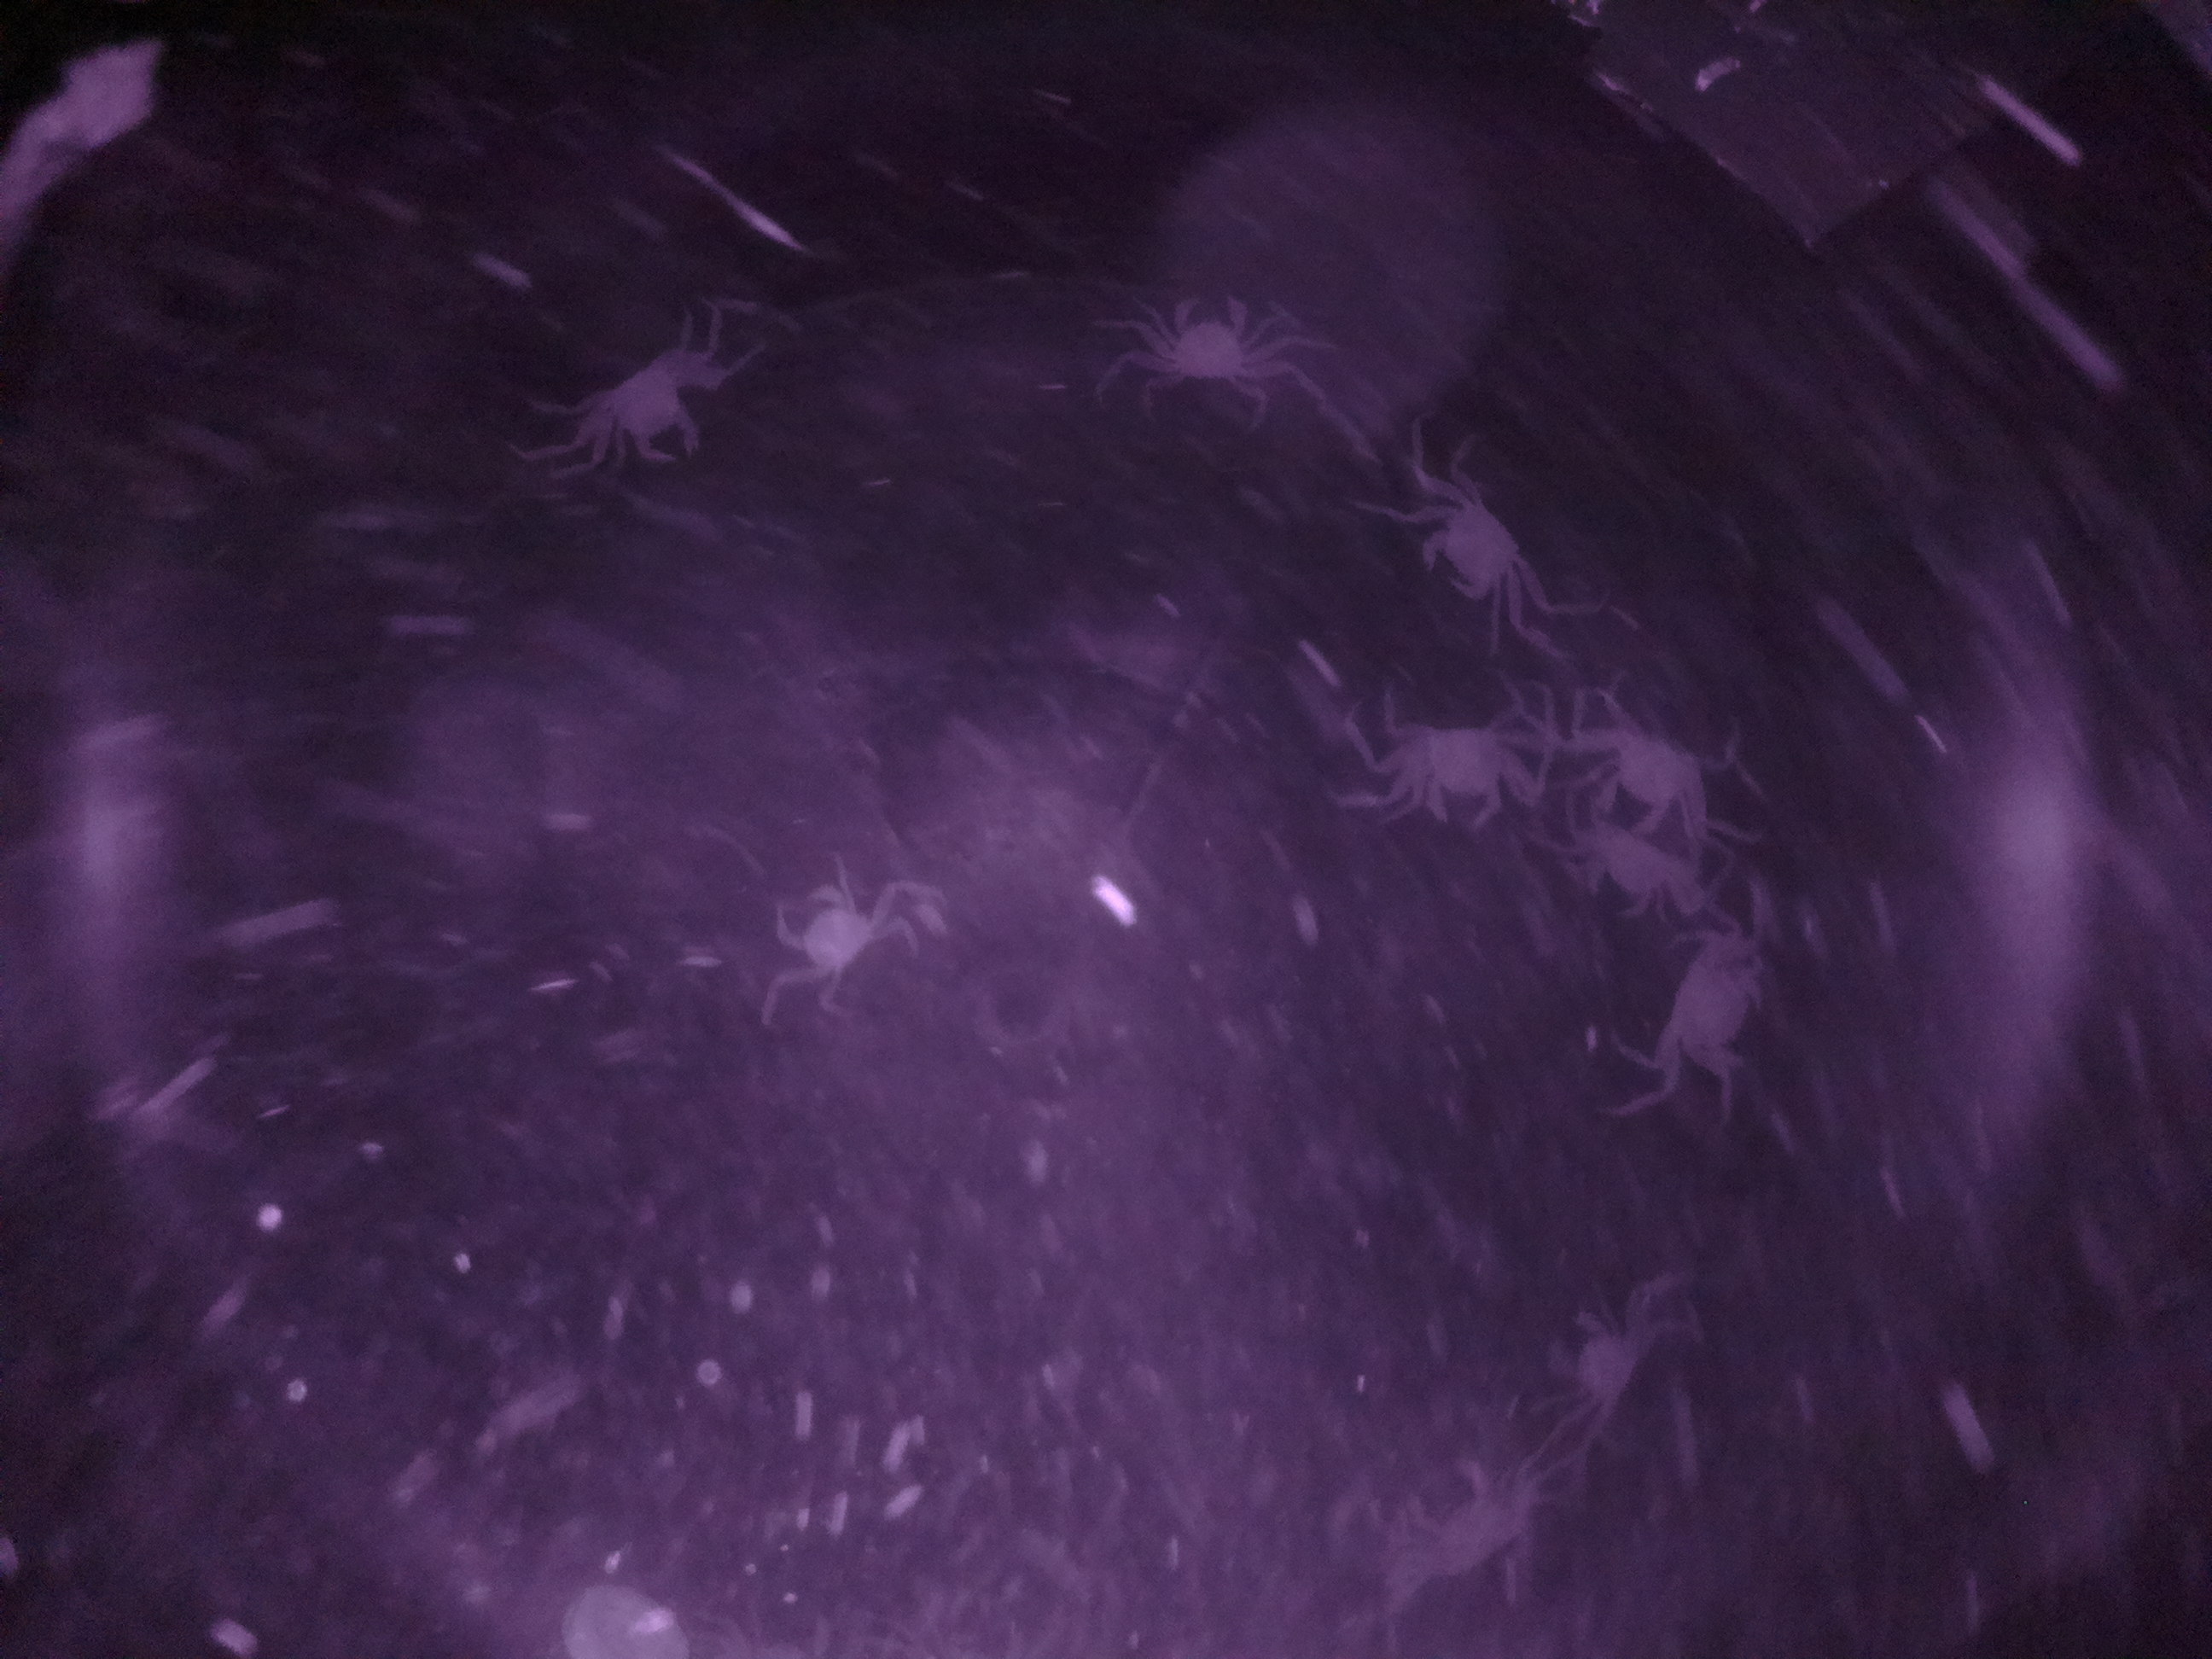Crab: (573, 335, 738, 486), (1399, 472, 1562, 622), (1388, 688, 1526, 842), (1132, 279, 1280, 404)
